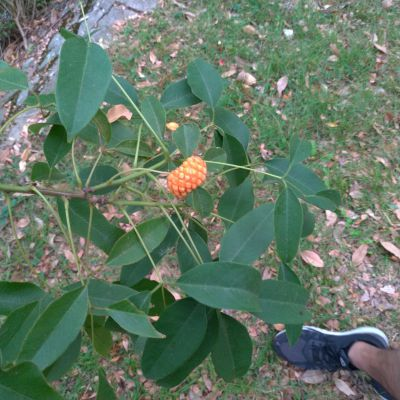eggs: (164, 152, 210, 196)
